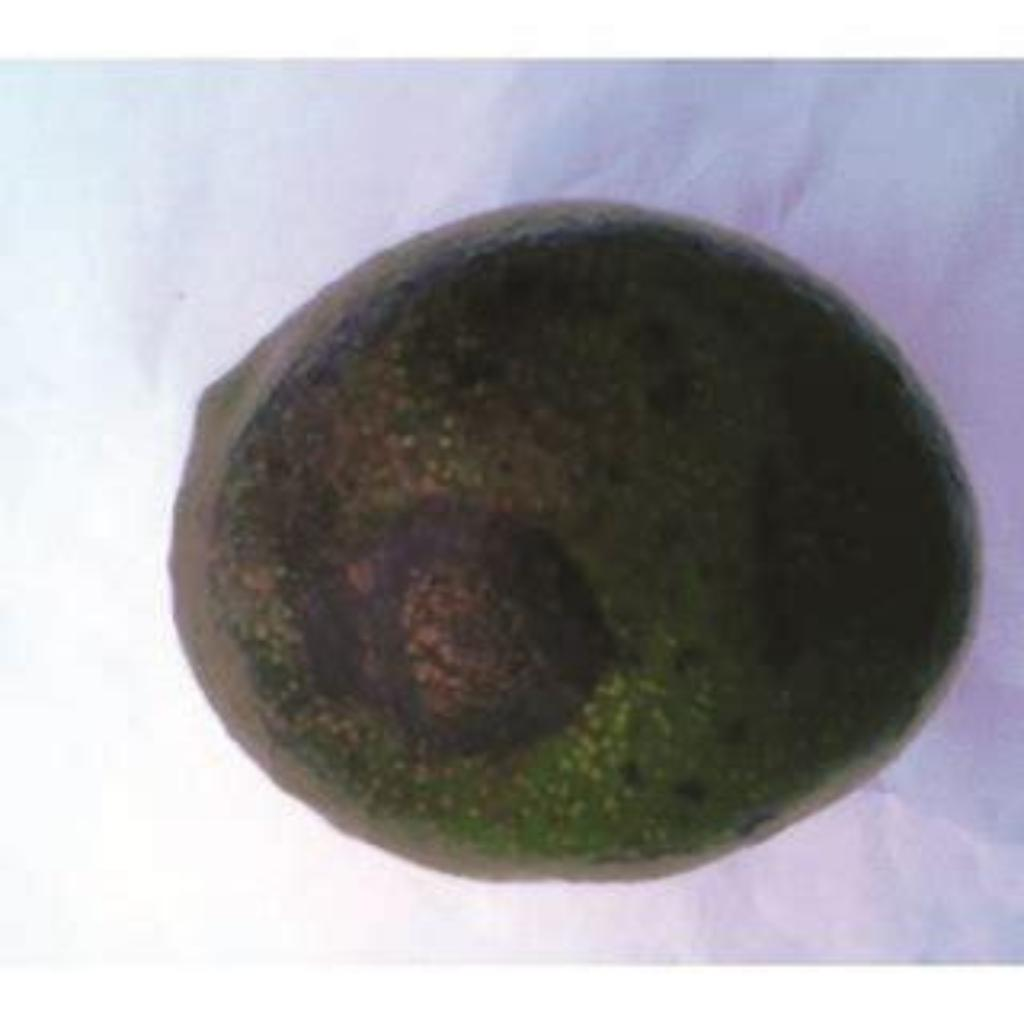Anthracnose: (220, 338, 808, 850)
